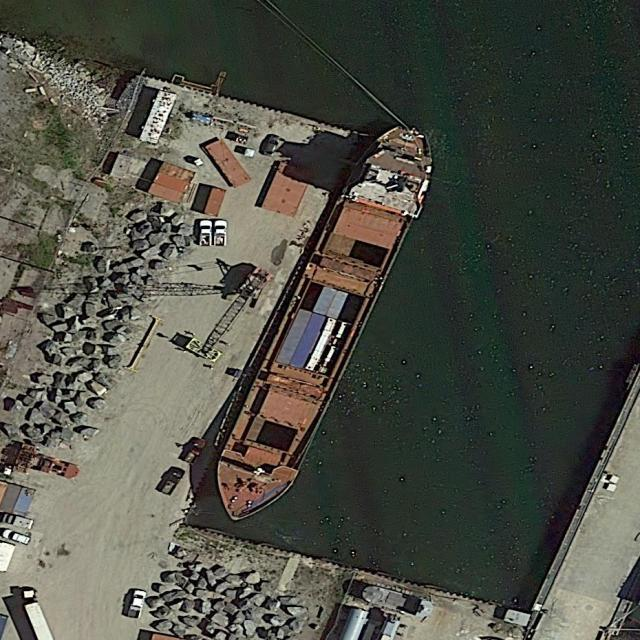Container Ship: (195, 110, 451, 541)
